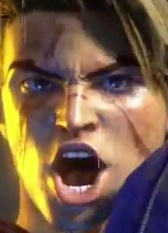kevin: (18, 12, 167, 230)
